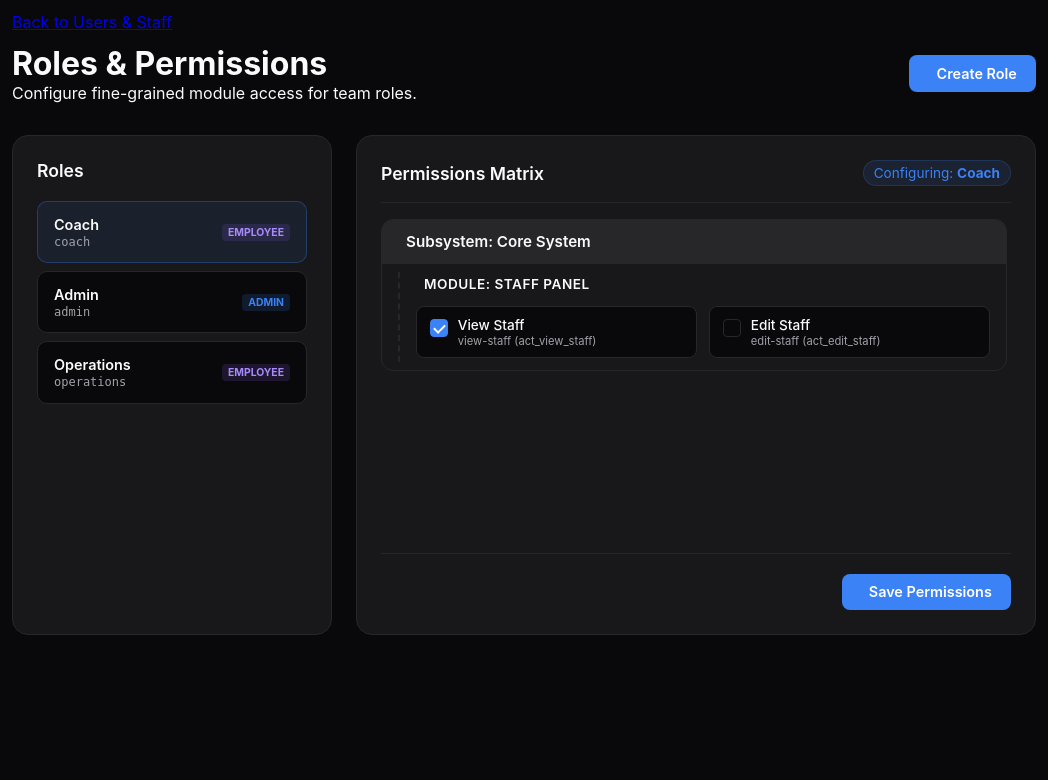
Roles and Permissions Page tests › should switch selected role and update checkbox states locally and instantaneously
Expected: the text "Operations" is shown, [54,356,131,373]
# Click on Operations role
Click the text "Operations" at [172, 372], box [37,341,307,404]
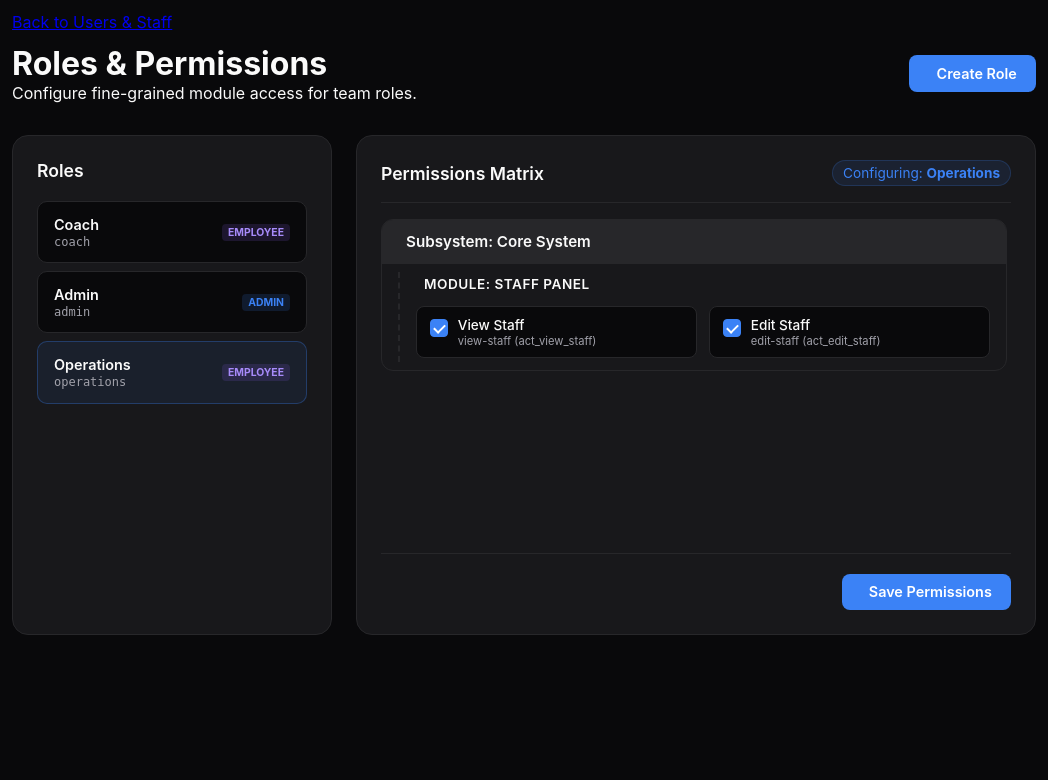
Expected: the checkbox labelled "View Staff view-staff (act_view_staff)" is checked, [430,317,596,348]
Now the checkbox labelled "Edit Staff edit-staff (act_edit_staff)" is checked, box [723,317,881,348]
